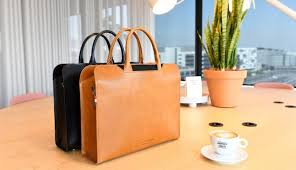bag: (44, 26, 192, 166)
